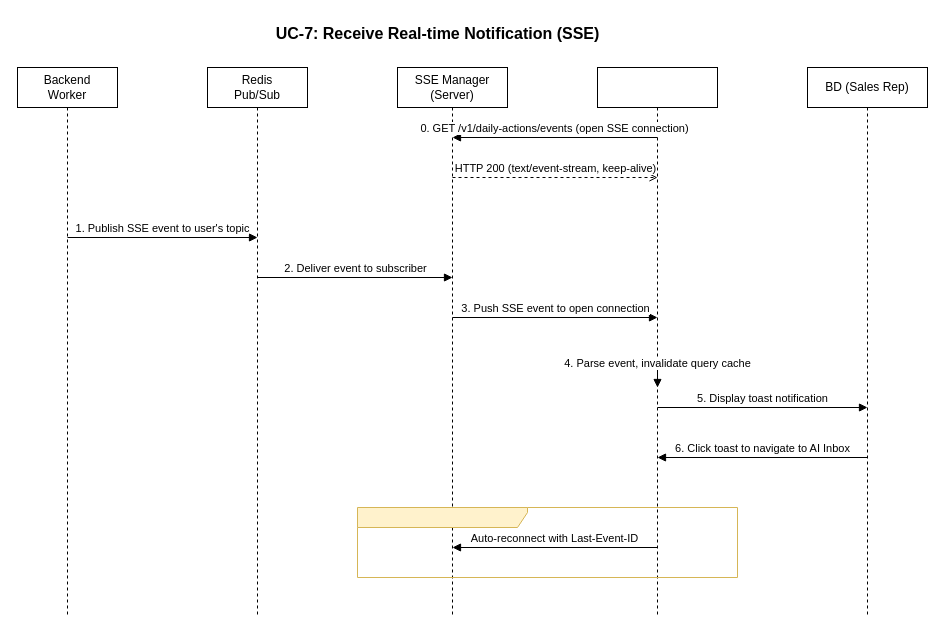
This 945x635 diagram has some shape labels left out. Each missing label, with the box of its shape:
alt [connection dropped]: (356, 506, 738, 578)
Frontend (EventSource): (596, 66, 718, 618)
